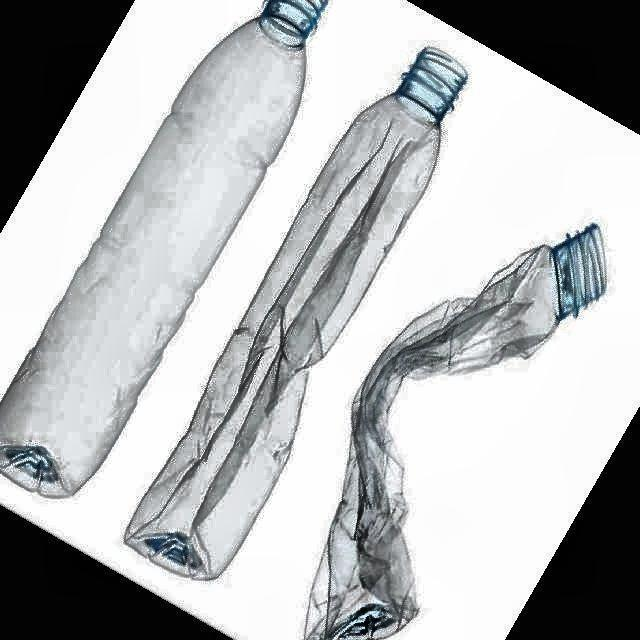plastic: (126, 50, 466, 579), (0, 0, 326, 497), (305, 225, 605, 639)
